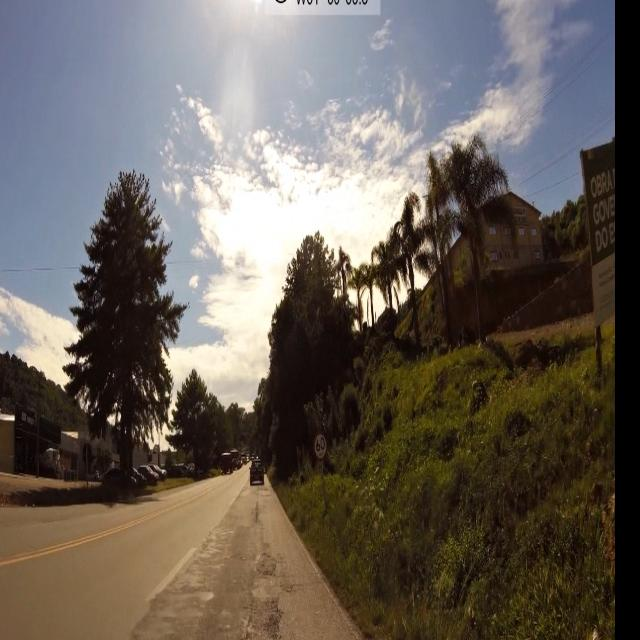R-19: (314, 433, 326, 459)
